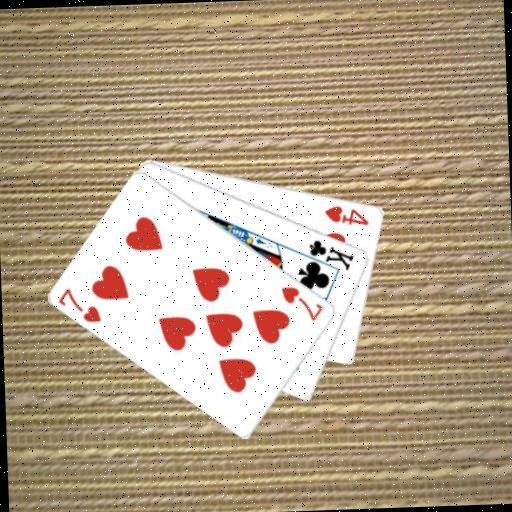4H: (321, 201, 370, 228)
7H: (54, 283, 103, 325), (278, 282, 325, 324)
KC: (297, 235, 356, 274)
